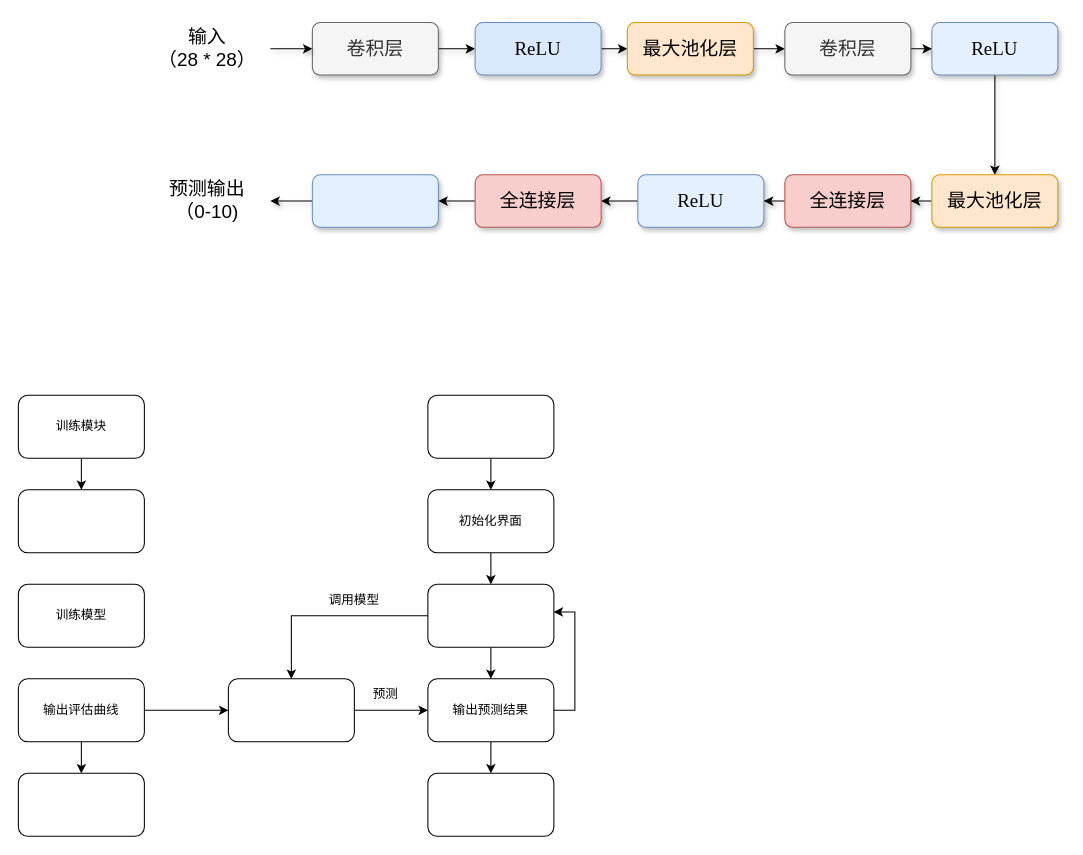
Some shapes in this 1083 by 855 pixel diagram are drawn without their labels. Here are the shapes that lost their labels. From the top down, the centre of each, then its label:
At [376,202]: "LogSoftmax".
At [490,426]: "用户界面模块".
At [80,521]: "读取数据集".
At [490,615]: "用户选择图片".
At [290,710]: "保存模型".
At [80,804]: "训练模块结束".
At [490,804]: "用户界面结束".
